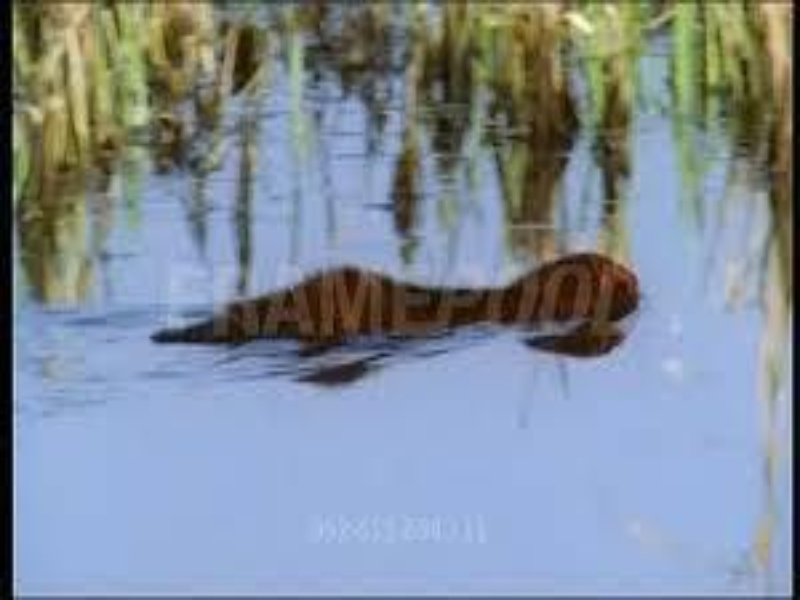minkish: (148, 253, 643, 348)
